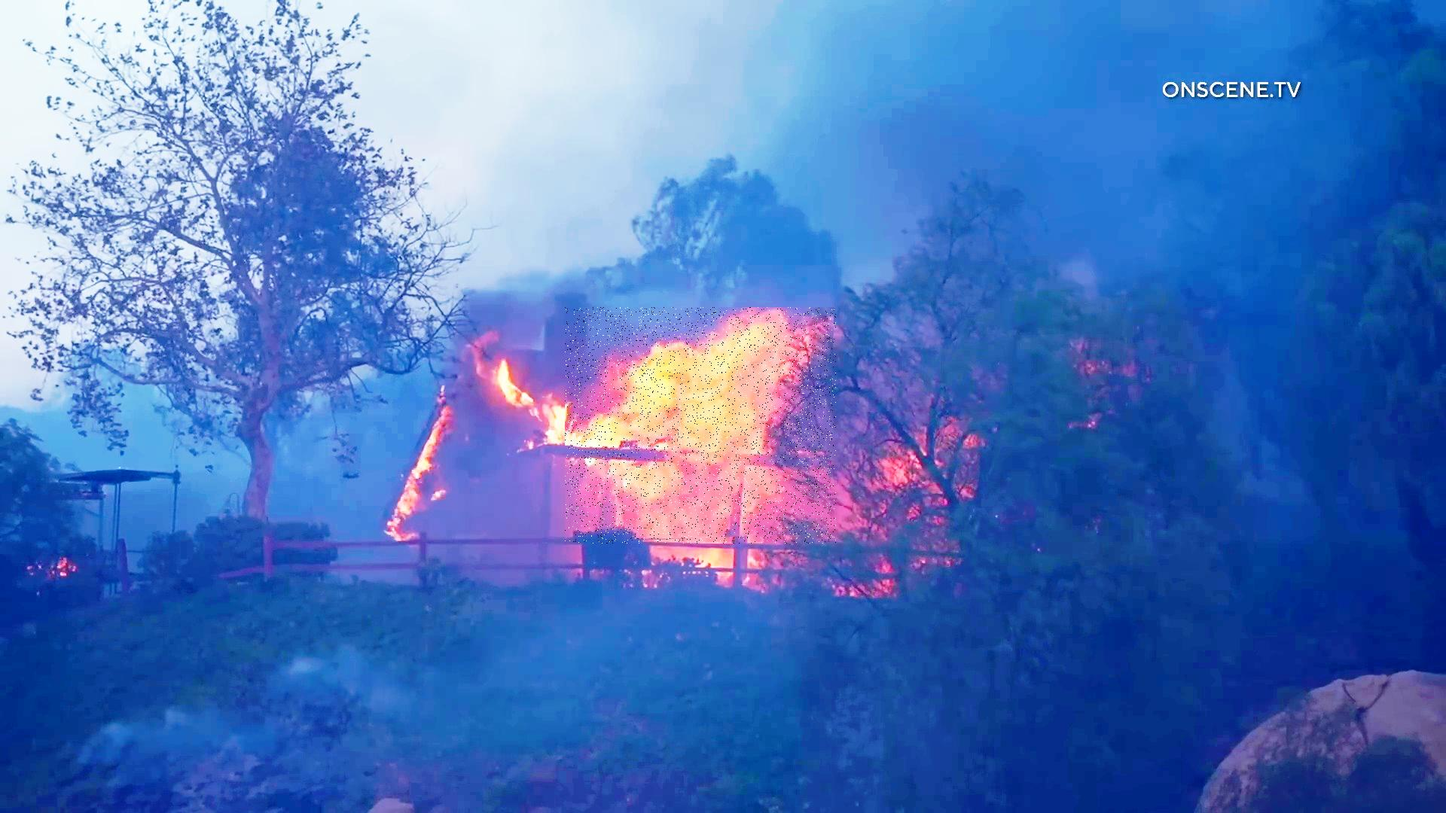fire: (565, 307, 837, 544)
